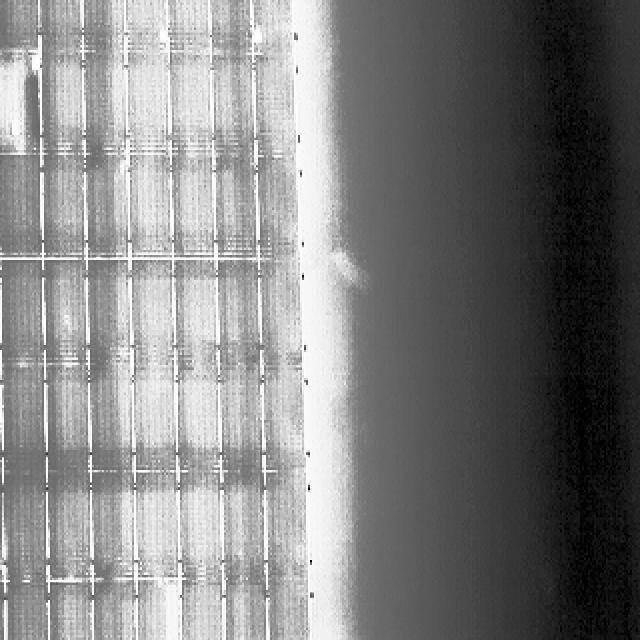Hotspots: (0, 122, 24, 150), (25, 54, 47, 75), (154, 27, 167, 46), (253, 32, 265, 48), (0, 550, 4, 570)
PV-modules: (81, 44, 133, 151), (0, 476, 47, 588), (2, 367, 48, 480), (46, 364, 92, 476), (210, 50, 260, 152), (46, 476, 92, 586), (130, 364, 176, 474), (221, 364, 266, 476), (86, 362, 131, 474), (265, 474, 310, 584), (89, 475, 134, 584), (262, 366, 307, 475), (42, 154, 88, 260), (38, 47, 84, 153), (177, 365, 221, 475), (134, 475, 179, 582), (122, 149, 167, 256), (118, 44, 163, 150), (224, 476, 268, 584), (261, 260, 304, 370), (124, 258, 169, 363), (83, 150, 127, 257), (215, 258, 259, 365), (180, 476, 224, 583), (172, 154, 216, 260), (174, 259, 218, 364), (43, 259, 87, 362), (85, 259, 129, 361), (257, 156, 301, 257), (214, 154, 256, 259), (170, 48, 212, 151), (255, 56, 298, 156), (0, 152, 40, 258), (0, 263, 40, 365), (0, 48, 38, 152), (134, 577, 180, 640), (266, 577, 312, 640), (180, 575, 224, 640), (92, 580, 138, 640), (226, 580, 270, 640), (48, 582, 92, 640), (6, 582, 50, 640), (207, 0, 254, 54), (250, 0, 294, 55), (166, 0, 211, 51), (38, 0, 83, 50), (80, 0, 123, 49), (122, 0, 166, 46), (0, 0, 36, 50), (0, 42, 6, 152), (0, 475, 4, 585), (0, 582, 6, 640), (0, 365, 2, 477)
